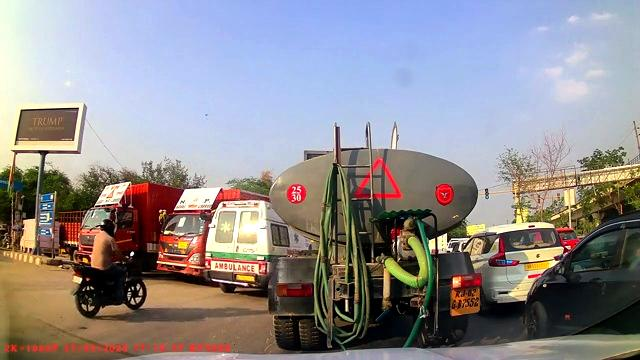motorcycle_with_helmet: (73, 217, 149, 320)
